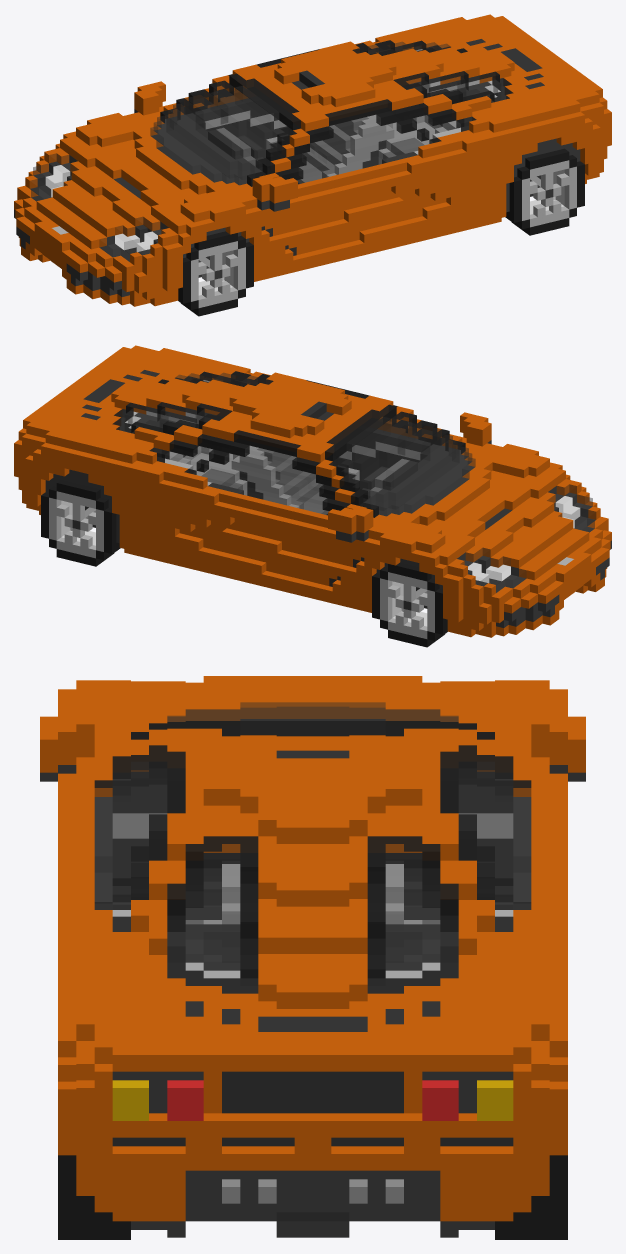
The model's file is MclarenF1.glb.
3 views of the same model, one above another, from view 1: azimuth 30°, elevation 25°; view 2: azimuth 150°, elevation 25°; view 3: azimuth 270°, elevation 25° (orthographic). The views are drawn at different scales.
Visible parts, largest first — view 1: Object_4, Object_6, Object_5, Object_3, Object_14, Object_8, Object_13, Object_10, Object_7, Object_11; view 2: Object_4, Object_6, Object_5, Object_3, Object_14, Object_8, Object_13, Object_10, Object_7, Object_11; view 3: Object_4, Object_5, Object_3, Object_6, Object_7, Object_13, Object_8, Object_9, Object_12, Object_10.
Boxes of the visible parts, x1=… form: Object_4: x1=14, y1=14, x2=611, y2=306; Object_6: x1=30, y1=42, x2=500, y2=261; Object_5: x1=14, y1=81, x2=580, y2=296; Object_3: x1=160, y1=40, x2=513, y2=186; Object_14: x1=52, y1=160, x2=576, y2=307; Object_8: x1=198, y1=49, x2=564, y2=295; Object_13: x1=178, y1=148, x2=584, y2=316; Object_10: x1=198, y1=117, x2=540, y2=268; Object_7: x1=114, y1=39, x2=544, y2=255; Object_11: x1=45, y1=165, x2=157, y2=251; Object_4: x1=14, y1=345, x2=611, y2=637; Object_6: x1=125, y1=373, x2=595, y2=592; Object_5: x1=45, y1=412, x2=611, y2=627; Object_3: x1=112, y1=371, x2=465, y2=517; Object_14: x1=49, y1=491, x2=573, y2=638; Object_8: x1=61, y1=380, x2=427, y2=626; Object_13: x1=41, y1=479, x2=447, y2=647; Object_10: x1=85, y1=448, x2=427, y2=599; Object_7: x1=81, y1=370, x2=511, y2=586; Object_11: x1=468, y1=496, x2=580, y2=582; Object_4: x1=40, y1=676, x2=585, y2=1221; Object_5: x1=40, y1=719, x2=585, y2=1237; Object_3: x1=94, y1=721, x2=531, y2=993; Object_6: x1=94, y1=702, x2=531, y2=977; Object_7: x1=112, y1=750, x2=513, y2=1221; Object_13: x1=58, y1=1155, x2=567, y2=1239; Object_8: x1=112, y1=813, x2=513, y2=978; Object_9: x1=112, y1=1080, x2=513, y2=1120; Object_12: x1=167, y1=1080, x2=458, y2=1120; Object_10: x1=185, y1=920, x2=440, y2=1203.
Size of the model in its own units: 64 by 18 by 30.
